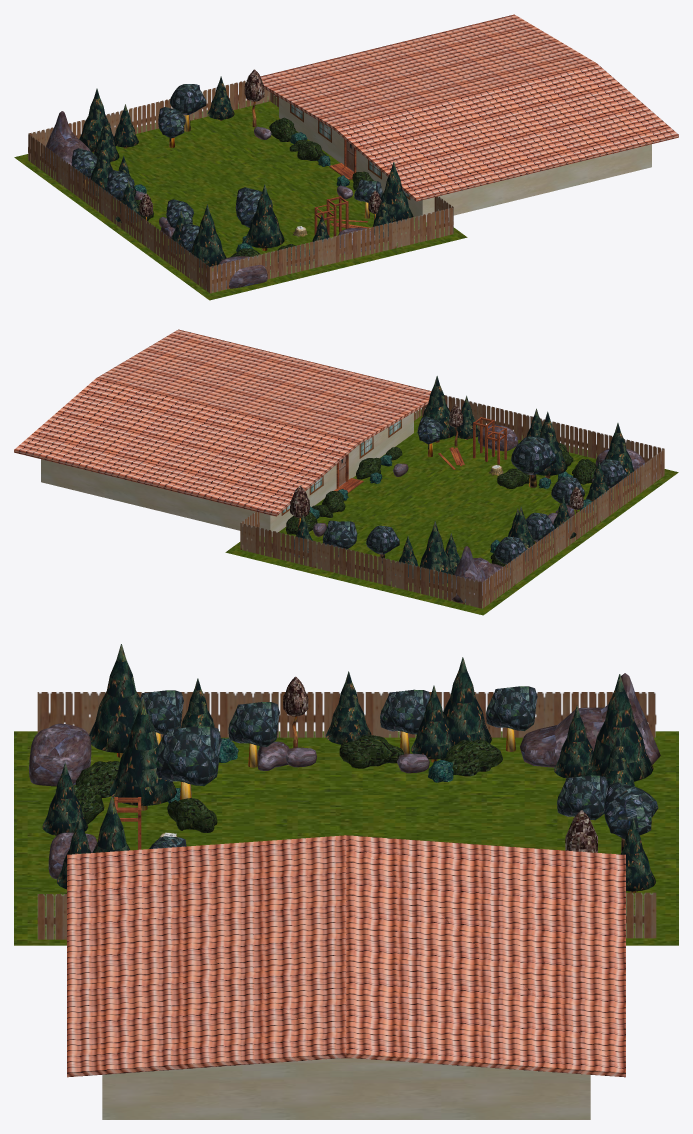
Rendered from house-exterior3.glb.
3 renders of one model, top to bottom at view 1: azimuth 30°, elevation 25°; view 2: azimuth 150°, elevation 25°; view 3: azimuth 270°, elevation 25°, orthographic. The views are drawn at different scales.
Parts seen in each view (by area): view 1: roof-top, ground, fence, exterior-lower, wall.pinetree.001, wall.pinetree04, wall.rock_lg, wall.pinetree04.001, wall.pinetree, wall.rocklg02.002, wall.tree03, wall.tree02.001 (+12 smaller); view 2: roof-top, ground, fence, exterior-lower, wall.tree02.001, wall.rock_lg, wall.pinetree, wall.pinetree04.001, wall.tree03, wall.pinetree.001, wall.tree02, wall.pinetree04 (+13 smaller); view 3: roof-top, ground, exterior-lower, fence, wall.pinetree.001, wall.rock_lg, wall.tree02.001, wall.pinetree04, wall.pinetree, wall.rocklg02.002, wall.pinetree.002, wall.tree03 (+23 smaller).
Boxes of the visible parts, box(x1,y1,x2,y2) form: roof-top: box(260, 14, 678, 201); ground: box(14, 96, 467, 300); fence: box(28, 80, 453, 293); exterior-lower: box(279, 97, 651, 222); wall.pinetree.001: box(245, 184, 284, 248); wall.pinetree04: box(191, 204, 226, 267); wall.rock_lg: box(42, 111, 90, 181); wall.pinetree04.001: box(374, 162, 413, 223); wall.pinetree: box(79, 88, 116, 152); wall.rocklg02.002: box(217, 256, 267, 288); wall.tree03: box(170, 84, 206, 115); wall.tree02.001: box(235, 187, 272, 227); roof-top: box(14, 329, 431, 516); ground: box(225, 409, 678, 615); fence: box(240, 395, 664, 608); exterior-lower: box(41, 412, 413, 536); wall.tree02.001: box(511, 436, 556, 474); wall.rock_lg: box(447, 546, 510, 602); wall.pinetree: box(420, 521, 453, 584); wall.pinetree04.001: box(417, 376, 456, 439); wall.tree03: box(322, 520, 357, 549); wall.pinetree.001: box(536, 411, 567, 475); wall.tree02: box(366, 525, 399, 554); wall.pinetree04: box(604, 423, 636, 486); roof-top: box(67, 835, 625, 1077); ground: box(14, 731, 678, 945); exterior-lower: box(102, 1058, 590, 1119); fence: box(37, 692, 656, 939); wall.pinetree.001: box(109, 697, 176, 805); wall.rock_lg: box(520, 673, 660, 767); wall.tree02.001: box(155, 726, 221, 786); wall.pinetree04: box(89, 644, 141, 752); wall.pinetree: box(588, 674, 653, 781); wall.rocklg02.002: box(29, 727, 91, 786); wall.pinetree.002: box(443, 657, 491, 745); wall.tree03: box(604, 782, 658, 839).
Size of what is drawn, in the model's own units: 92.48 by 13.88 by 64.6.
16 materials, 16 textured.
